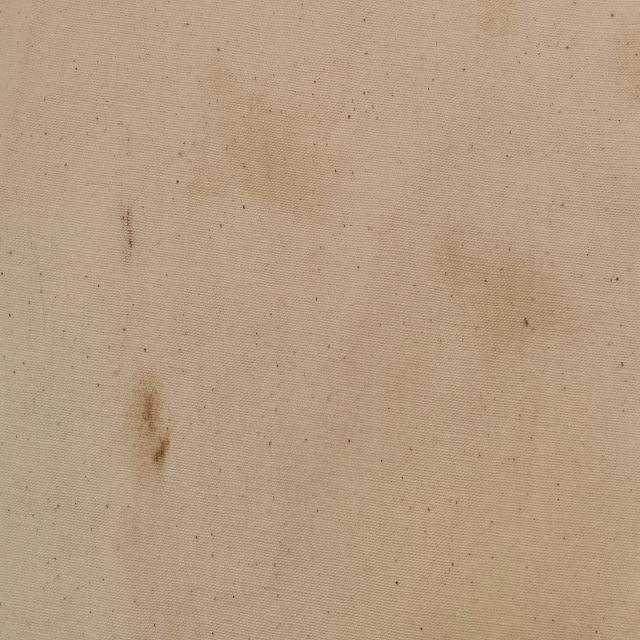taaaches: (126, 376, 178, 482), (114, 192, 140, 268)
